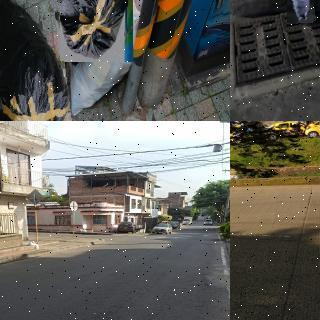Garbage: (0, 0, 69, 121), (60, 0, 133, 62), (285, 0, 314, 23), (26, 242, 36, 246), (34, 244, 40, 250), (83, 229, 87, 233), (79, 229, 84, 232)
